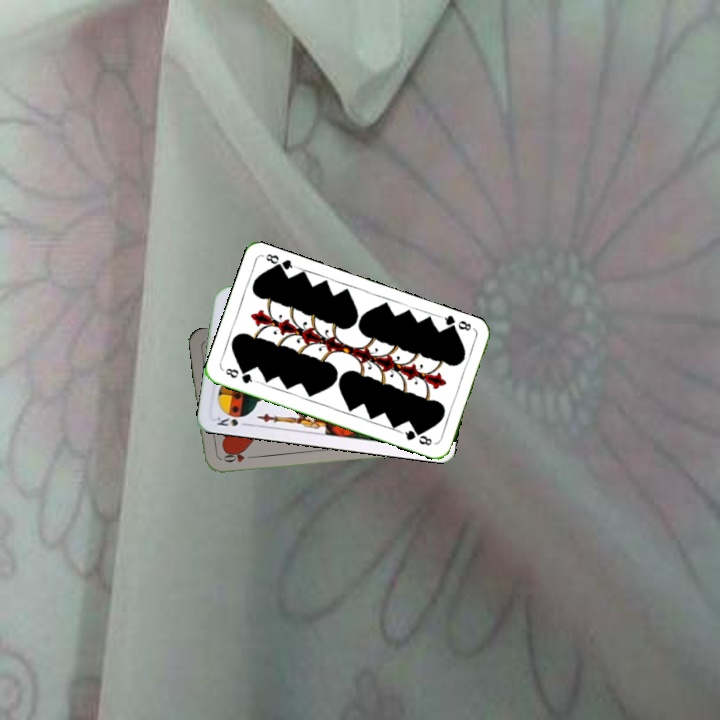G8: (438, 311, 474, 335), (221, 364, 259, 386)
HO: (216, 449, 257, 465)
SK: (213, 413, 252, 429)
